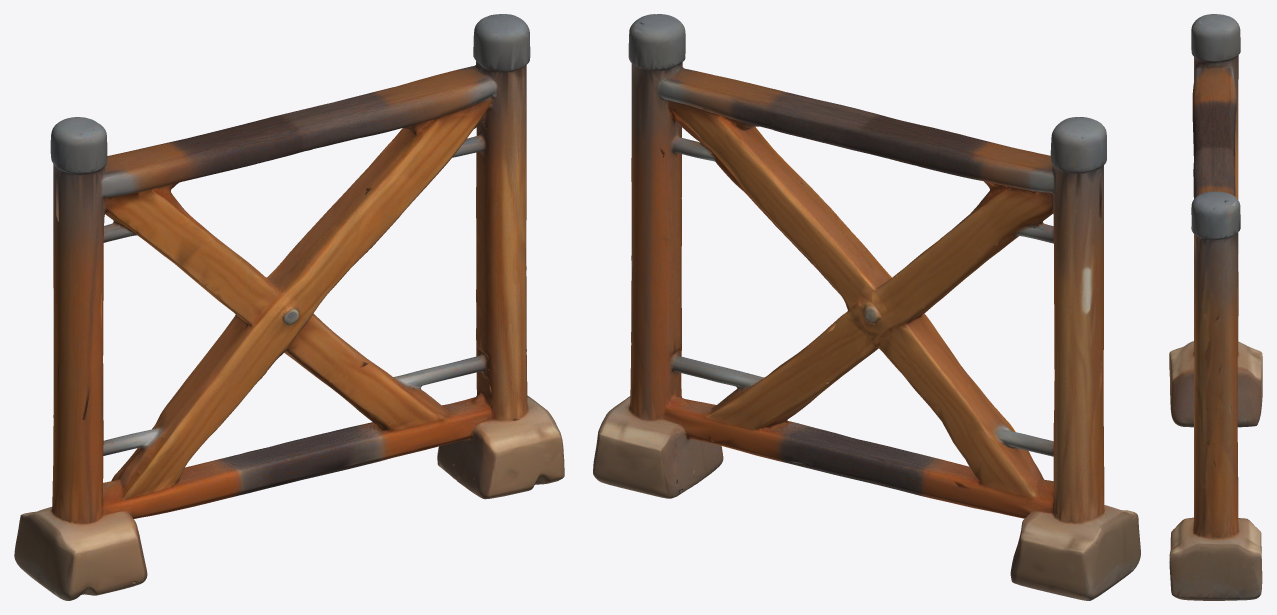
File: fence.glb
The picture shows the model from 3 angles, left to right: view 1: azimuth 30°, elevation 25°; view 2: azimuth 150°, elevation 25°; view 3: azimuth 270°, elevation 25°; orthographic projection. The views are drawn at different scales.
Size of the model in its own units: 2 by 1.74 by 0.3767.
1 material, 1 textured.
